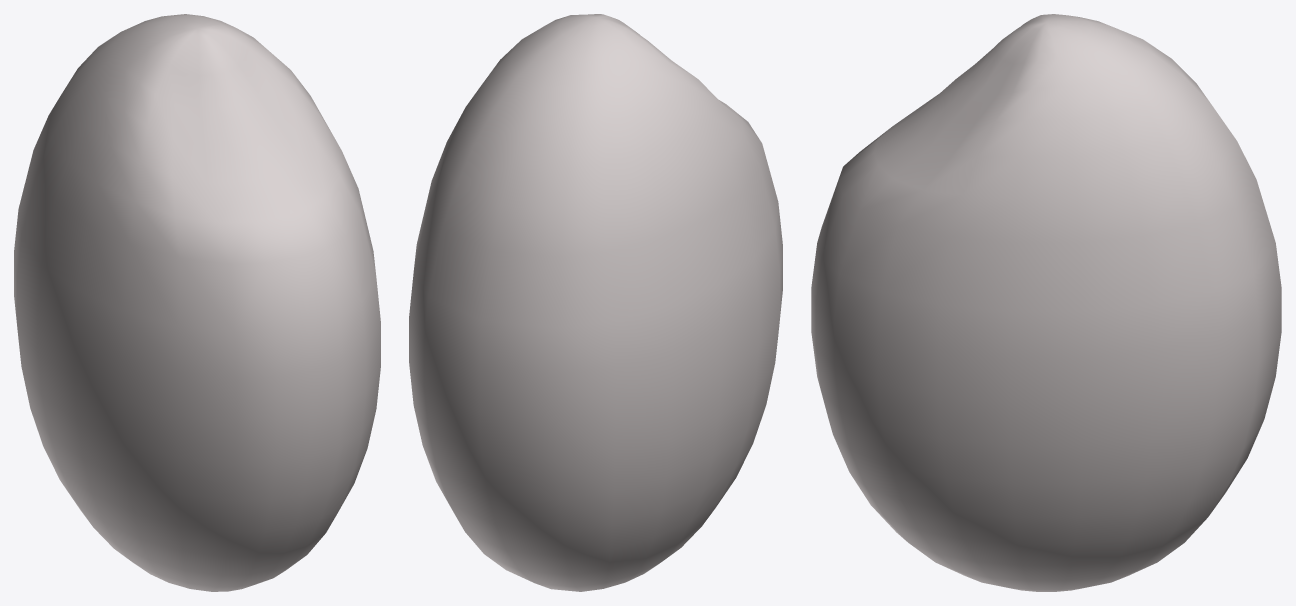
The model's file is kome.fbx.
3 views of the same model, side by side, from view 1: azimuth 30°, elevation 25°; view 2: azimuth 150°, elevation 25°; view 3: azimuth 270°, elevation 25° (orthographic). The views are drawn at different scales.
Parts seen in each view (by area): view 1: pSphere2; view 2: pSphere2; view 3: pSphere2.
Part boxes in pixels (x1,y1,x2,y2): pSphere2: [14, 14, 380, 591]; pSphere2: [409, 14, 782, 591]; pSphere2: [811, 14, 1281, 591].
Size of the model in its own units: 0.632 by 1.18 by 0.8881.
